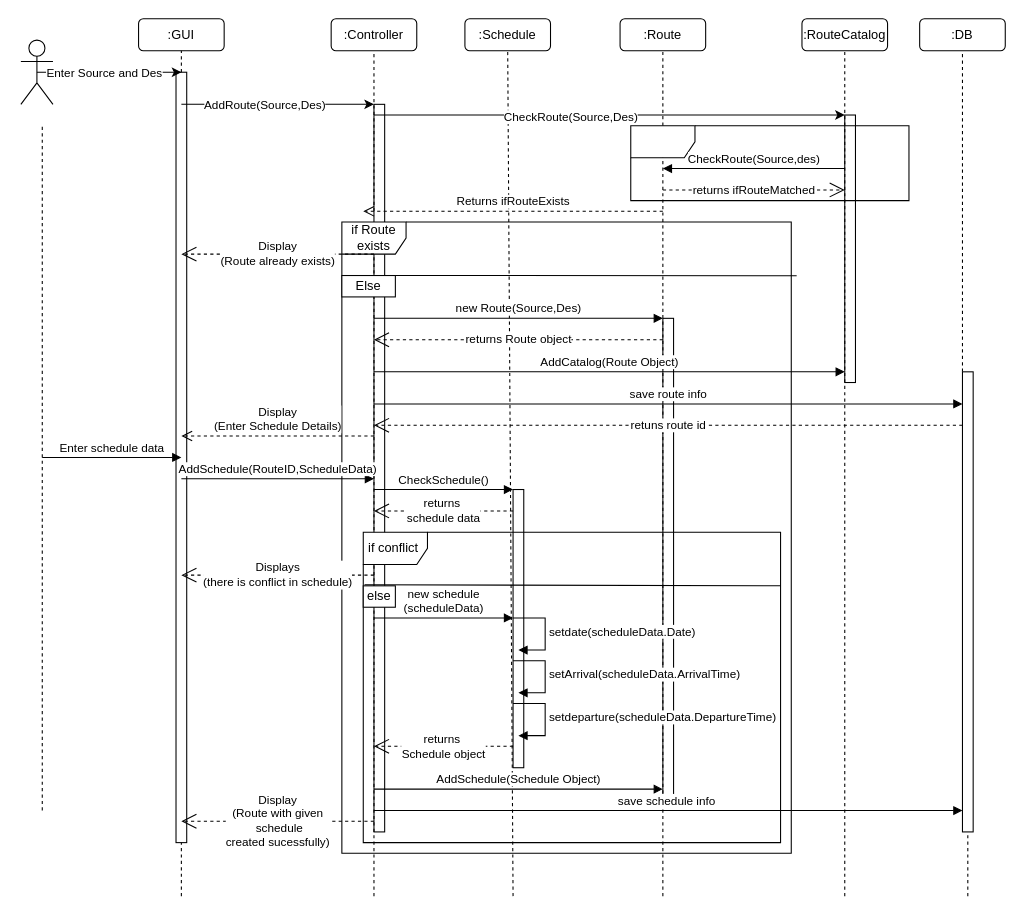
This 1024x916 diagram has some shape labels left out. The shapes that lost their labels are listed below. From the top down, each one's centre as x and y in pixels, then its label:
At [36,71]: "Admin".
At [769,163]: "For each route".
